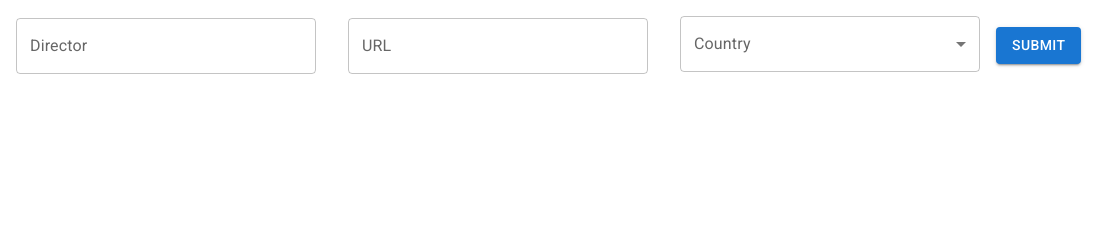
AddNewDirector › should render country MenuItems after data is fetched (lines 83-86)
Press the mouse on the dropdown with id "demo-multiple-checkbox": (830, 44) [680,16,980,72]
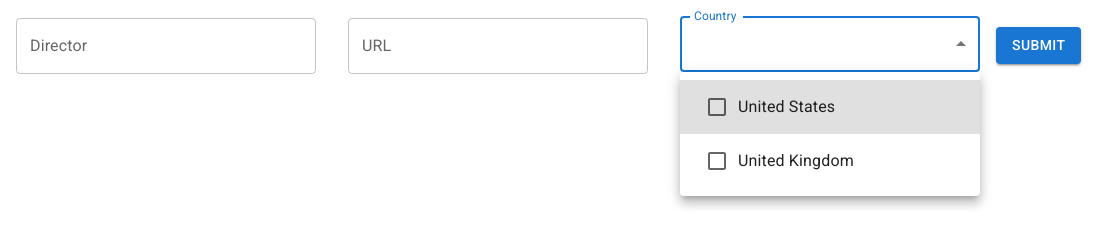
Expected: the text "United States" is shown, [738,97,835,116]
